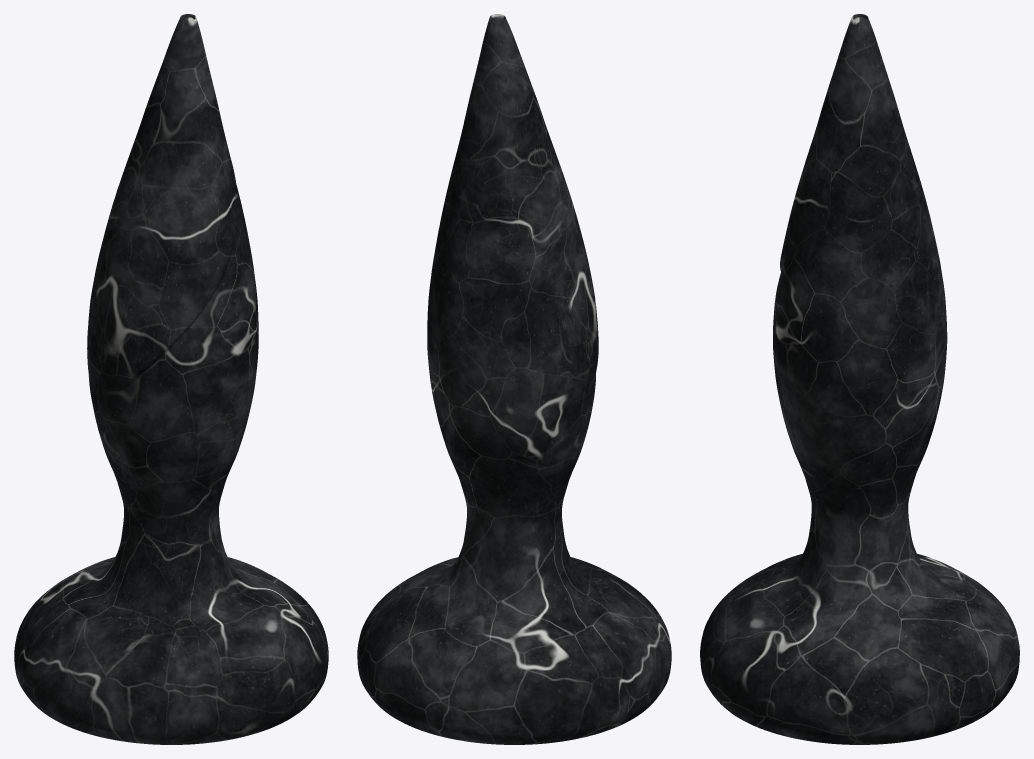
File: bishop-black-hd.glb
3 renders of one model, left to right at view 1: azimuth 30°, elevation 25°; view 2: azimuth 150°, elevation 25°; view 3: azimuth 270°, elevation 25°, orthographic.
Parts seen in each view (by area): view 1: Serpentina_bishop_black; view 2: Serpentina_bishop_black; view 3: Serpentina_bishop_black.
Boxes of the visible parts, box(x1,y1,x2,y2) form: Serpentina_bishop_black: box(14, 14, 328, 744); Serpentina_bishop_black: box(357, 14, 671, 744); Serpentina_bishop_black: box(700, 14, 1019, 744).
Size of the model in its own units: 0.6355 by 1.48 by 0.6356.
1 material, 1 textured.
